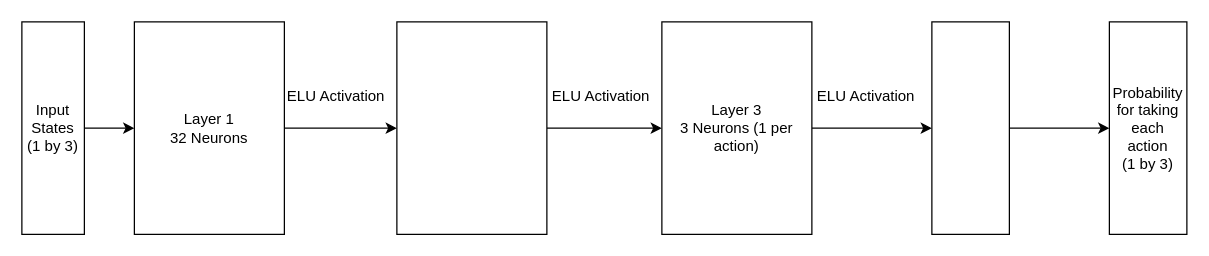
Some shapes in this 1209 by 256 pixel diagram are drawn without their labels. Here are the shapes that lost their labels. From the top down, the centre of each, then its label:
At point 471,127: "Layer 2 16 Neurons".
At point 970,127: "Softmax".
